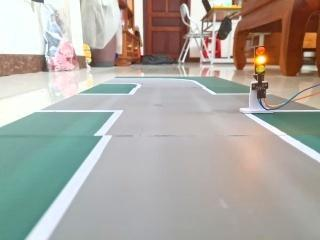yellow: (246, 40, 274, 80)
